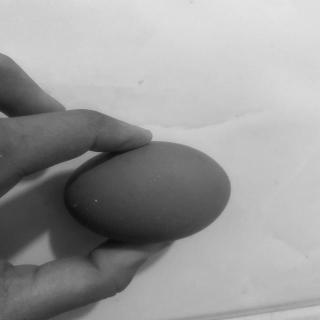Telur: (65, 140, 237, 242)
